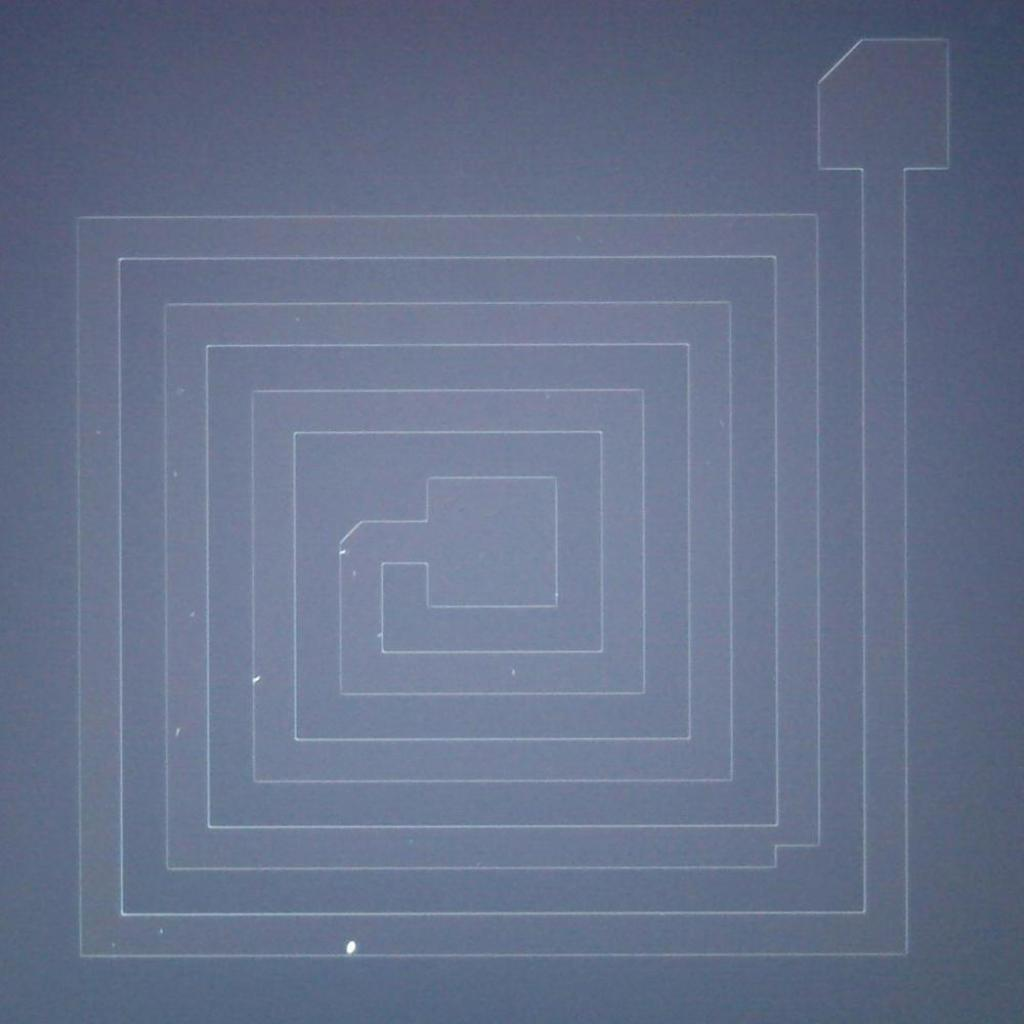edge circuit: (803, 32, 871, 95), (762, 832, 836, 878), (328, 509, 372, 550)
spot: (338, 930, 362, 958)
